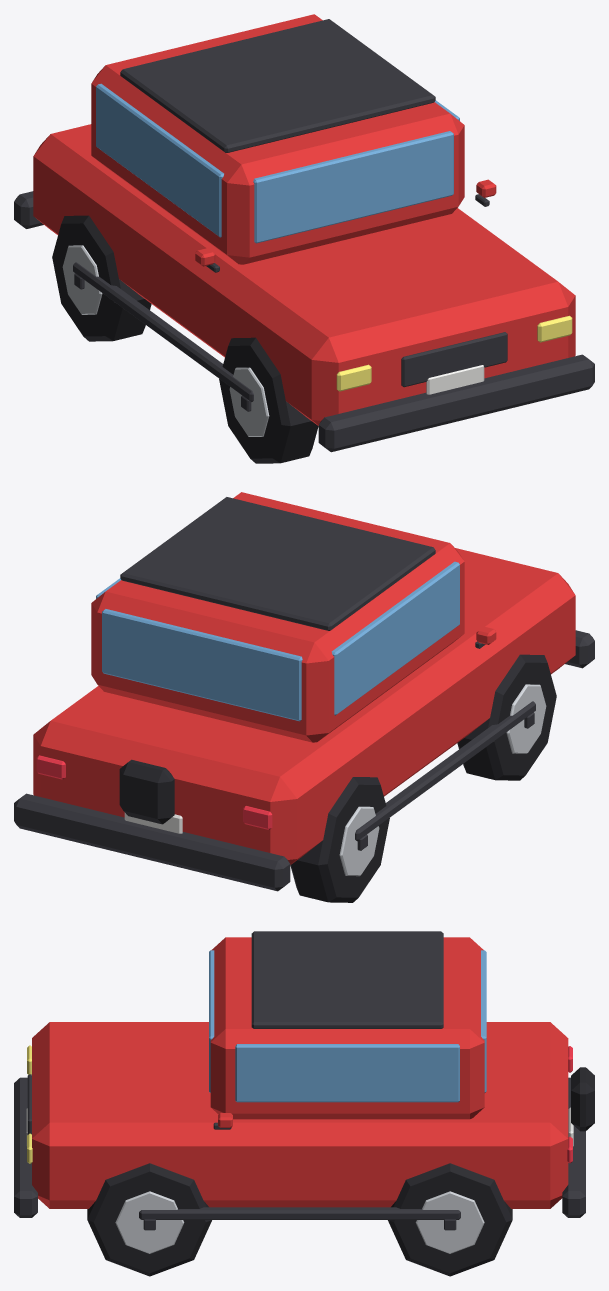
File: RedJeep.fbx
3 views of the same model, one above another, from view 1: azimuth 30°, elevation 25°; view 2: azimuth 150°, elevation 25°; view 3: azimuth 270°, elevation 25° (orthographic). The views are drawn at different scales.
Parts seen in each view (by area): view 1: RedJeep, RedJeep_WheelFR, RedJeep_WheelBR; view 2: RedJeep, RedJeep_WheelBR, RedJeep_WheelFR; view 3: RedJeep, RedJeep_WheelFL, RedJeep_WheelBL.
Boxes of the visible parts, left/top/right/bottom form: RedJeep: left=14, top=14, right=594, bottom=452; RedJeep_WheelFR: left=219, top=337, right=318, bottom=463; RedJeep_WheelBR: left=52, top=215, right=151, bottom=341; RedJeep: left=14, top=492, right=594, bottom=891; RedJeep_WheelBR: left=290, top=777, right=389, bottom=902; RedJeep_WheelFR: left=457, top=654, right=556, bottom=780; RedJeep: left=14, top=931, right=594, bottom=1219; RedJeep_WheelFL: left=87, top=1163, right=211, bottom=1276; RedJeep_WheelBL: left=388, top=1163, right=512, bottom=1276.
Bounding box in the file's own units: 5.15 × 4.48 × 9.75.
Materials: 1 (1 with a texture image).
